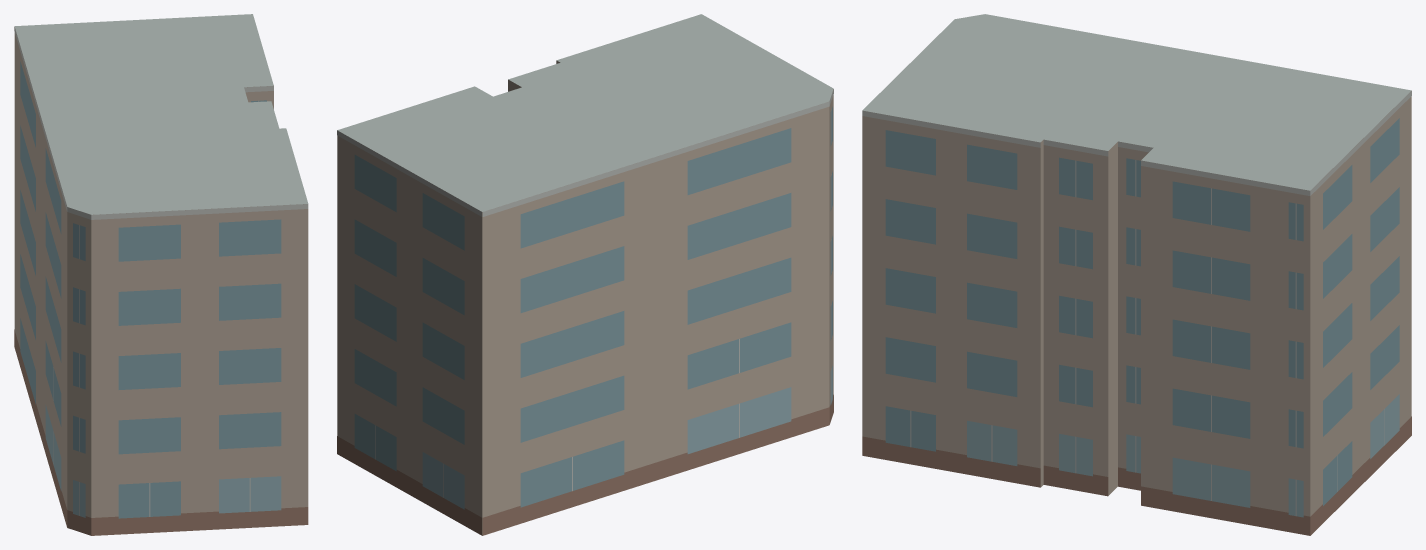
File: survey-upis-33016333.glb
3 renders of one model, left to right at view 1: azimuth 30°, elevation 25°; view 2: azimuth 150°, elevation 25°; view 3: azimuth 270°, elevation 25°, orthographic. The views are drawn at different scales.
Parts seen in each view (by area): view 1: survey-upis-33016333.tmp; view 2: survey-upis-33016333.tmp; view 3: survey-upis-33016333.tmp.
Boxes of the visible parts, left/top/right/bottom form: survey-upis-33016333.tmp: left=14, top=14, right=308, bottom=535; survey-upis-33016333.tmp: left=337, top=14, right=833, bottom=535; survey-upis-33016333.tmp: left=862, top=14, right=1411, bottom=535.
Bounding box in the file's own units: 16.92 × 15.4 × 22.23.
